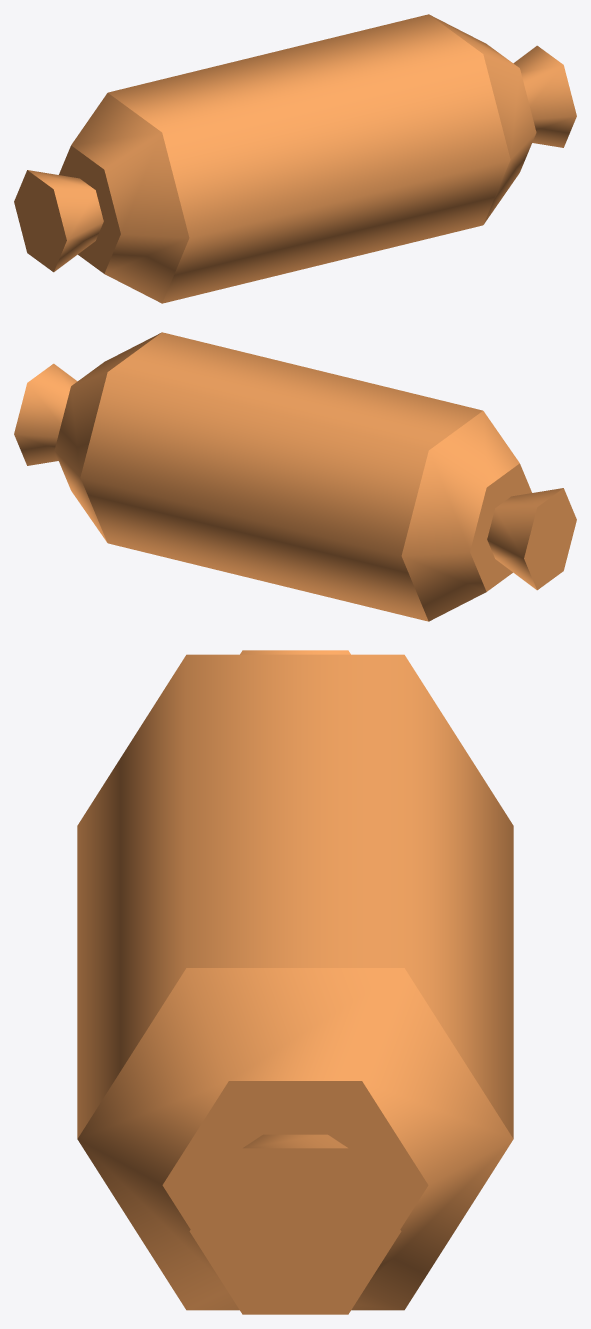
File: sausage.fbx
The picture shows the model from 3 angles, top to bottom: view 1: azimuth 30°, elevation 25°; view 2: azimuth 150°, elevation 25°; view 3: azimuth 270°, elevation 25°; orthographic projection. The views are drawn at different scales.
Parts seen in each view (by area): view 1: sausage; view 2: sausage; view 3: sausage.
Part boxes in pixels (left/top/right/bottom): sausage: left=14, top=14, right=576, bottom=303; sausage: left=14, top=332, right=576, bottom=621; sausage: left=77, top=650, right=513, bottom=1314.
Size of the model in its own units: 0.3707 by 0.1189 by 0.1373.
